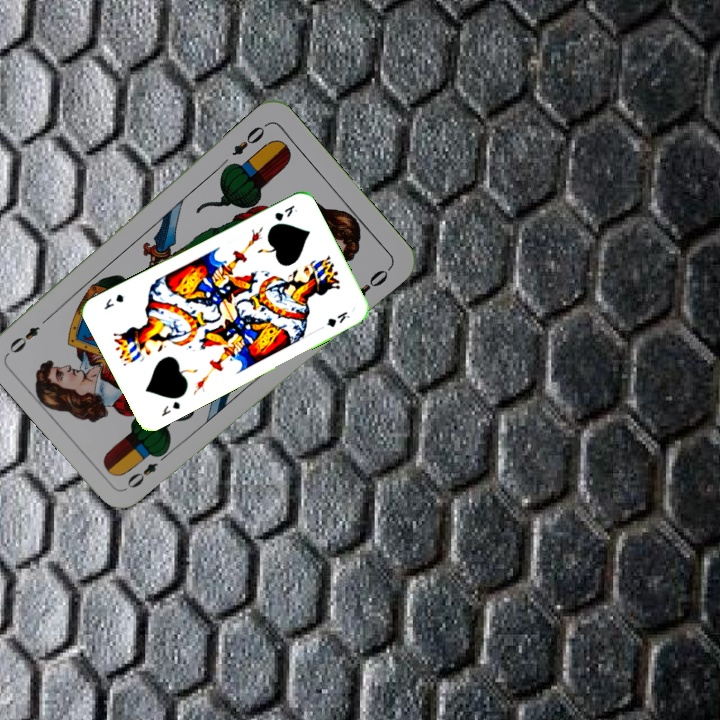EO: (122, 447, 172, 492), (228, 119, 270, 159)
GK: (270, 201, 300, 224), (157, 397, 183, 419)
